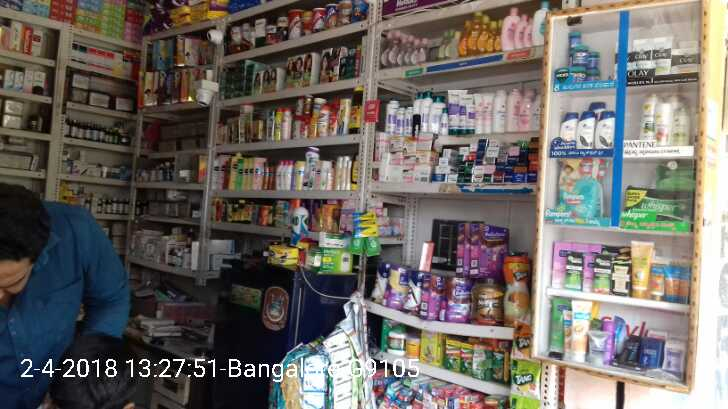vicks: (569, 67, 585, 84), (573, 47, 586, 65), (588, 51, 600, 68), (569, 32, 581, 46)
